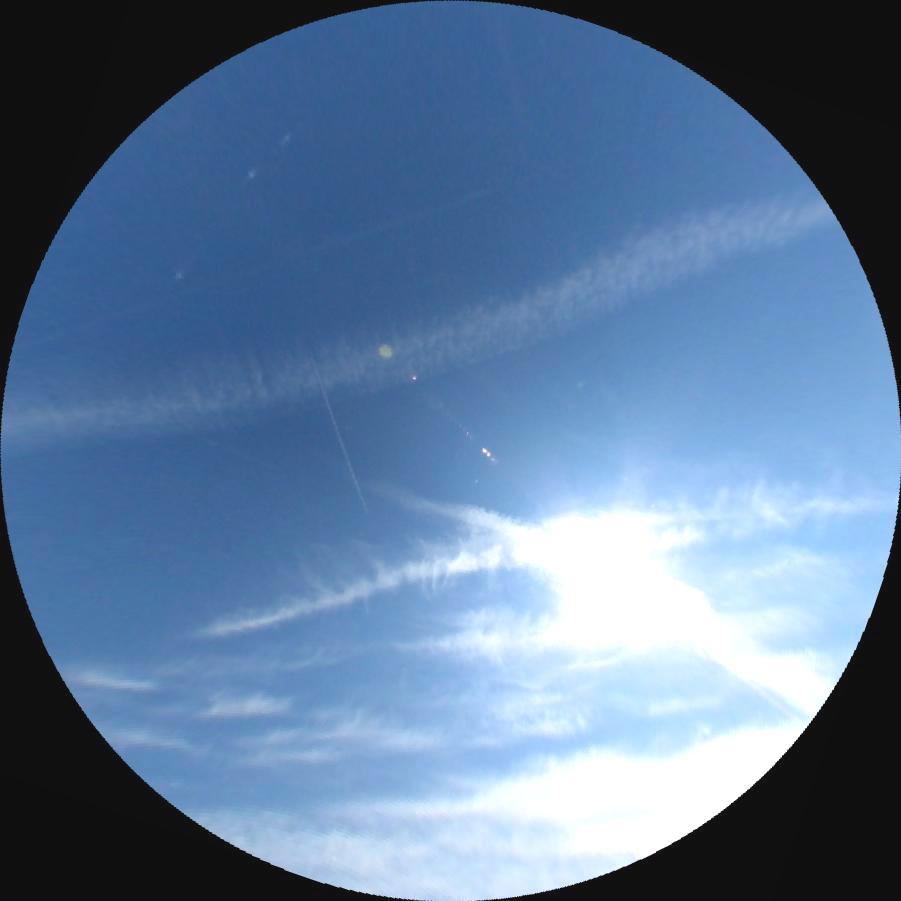contrail old: (10, 182, 499, 355)
contrail veryold: (0, 170, 848, 489), (170, 449, 899, 642), (369, 433, 841, 723)
contrail young: (306, 352, 369, 515)
parasite: (165, 125, 293, 284), (679, 627, 808, 730)
sun: (551, 521, 675, 626)
